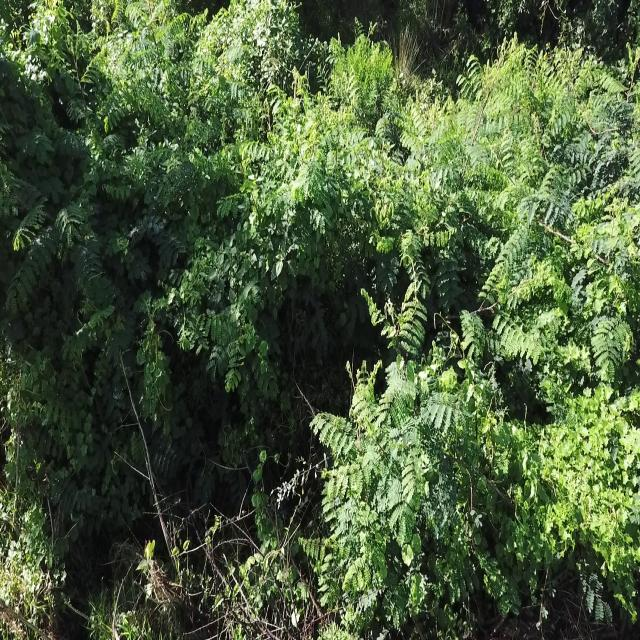Mysore-Thorn-Weed: (314, 286, 480, 560), (0, 0, 144, 313), (87, 0, 258, 196), (216, 46, 359, 240), (161, 233, 272, 406), (508, 182, 640, 298), (448, 27, 526, 192), (541, 44, 623, 178)
